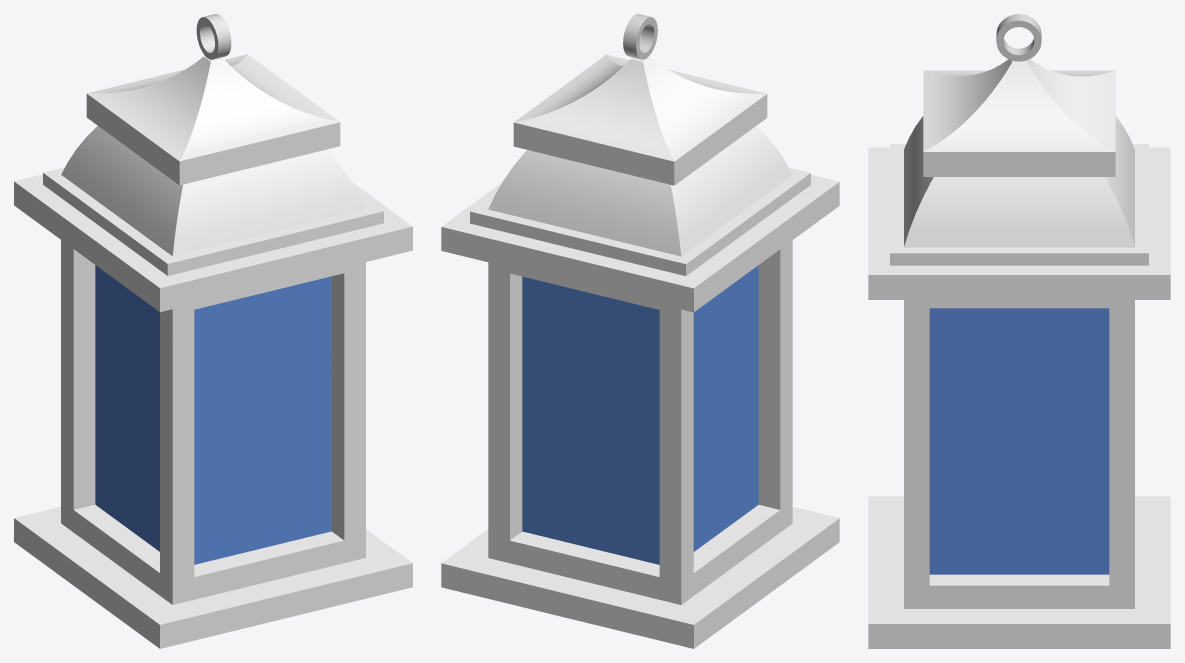
3 renders of one model, left to right at view 1: azimuth 30°, elevation 25°; view 2: azimuth 150°, elevation 25°; view 3: azimuth 270°, elevation 25°, orthographic. The views are drawn at different scales.
Parts seen in each view (by area): view 1: Layer0_001, Group_001; view 2: Layer0_001, Group_001; view 3: Layer0_001, Group_001.
Part boxes in pixels (x1,y1,x2,y2): Layer0_001: (14,54,412,648); Group_001: (196,14,231,59); Layer0_001: (441,54,839,648); Group_001: (623,14,657,59); Layer0_001: (868,59,1170,648); Group_001: (996,14,1041,61).
Size of the model in its own units: 220 by 456 by 220.
